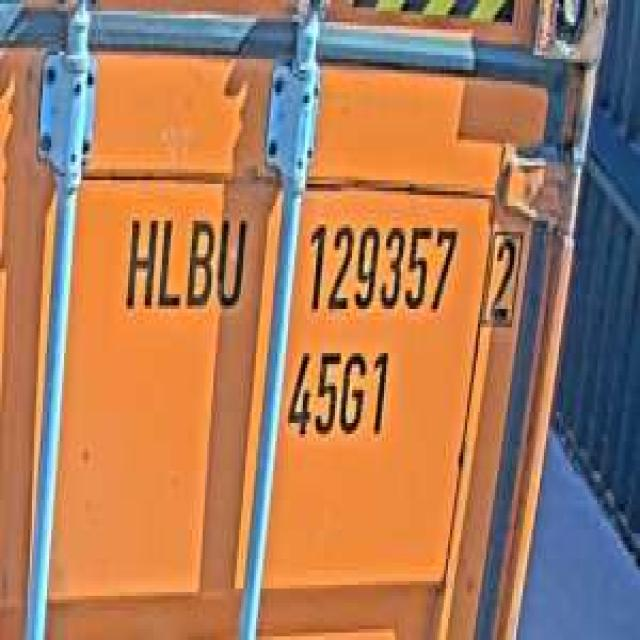dv: (480, 217, 527, 335)
owner: (117, 202, 250, 320)
serial: (301, 213, 461, 324)
size: (284, 338, 392, 445)
